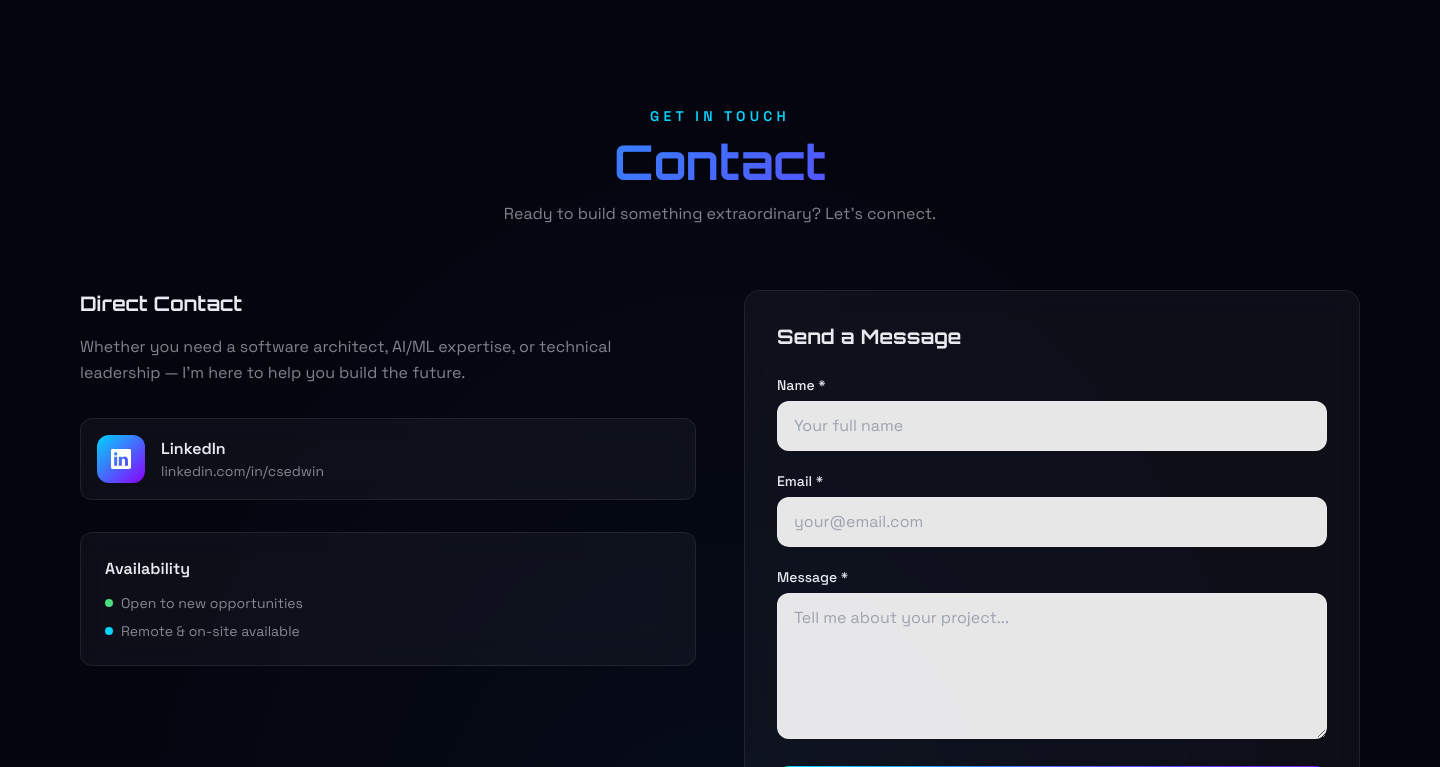
Test case: Contact › shows invalid email error
Type "Test User" into the field labelled "Name *". click: (1052, 426)
box: [777, 401, 1327, 451]
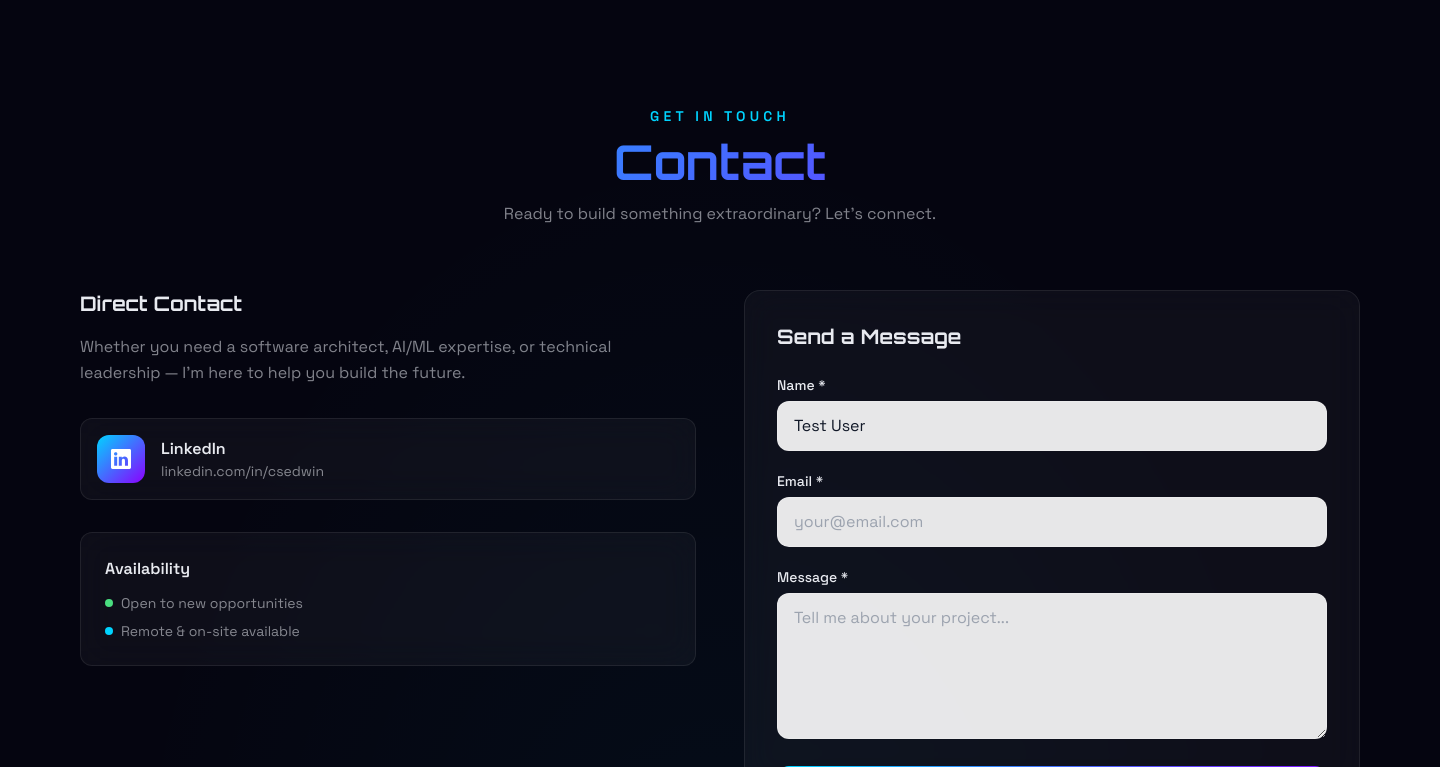
Type "not-an-email" into the field labelled "Email *". click: (1052, 522)
box: [777, 497, 1327, 547]
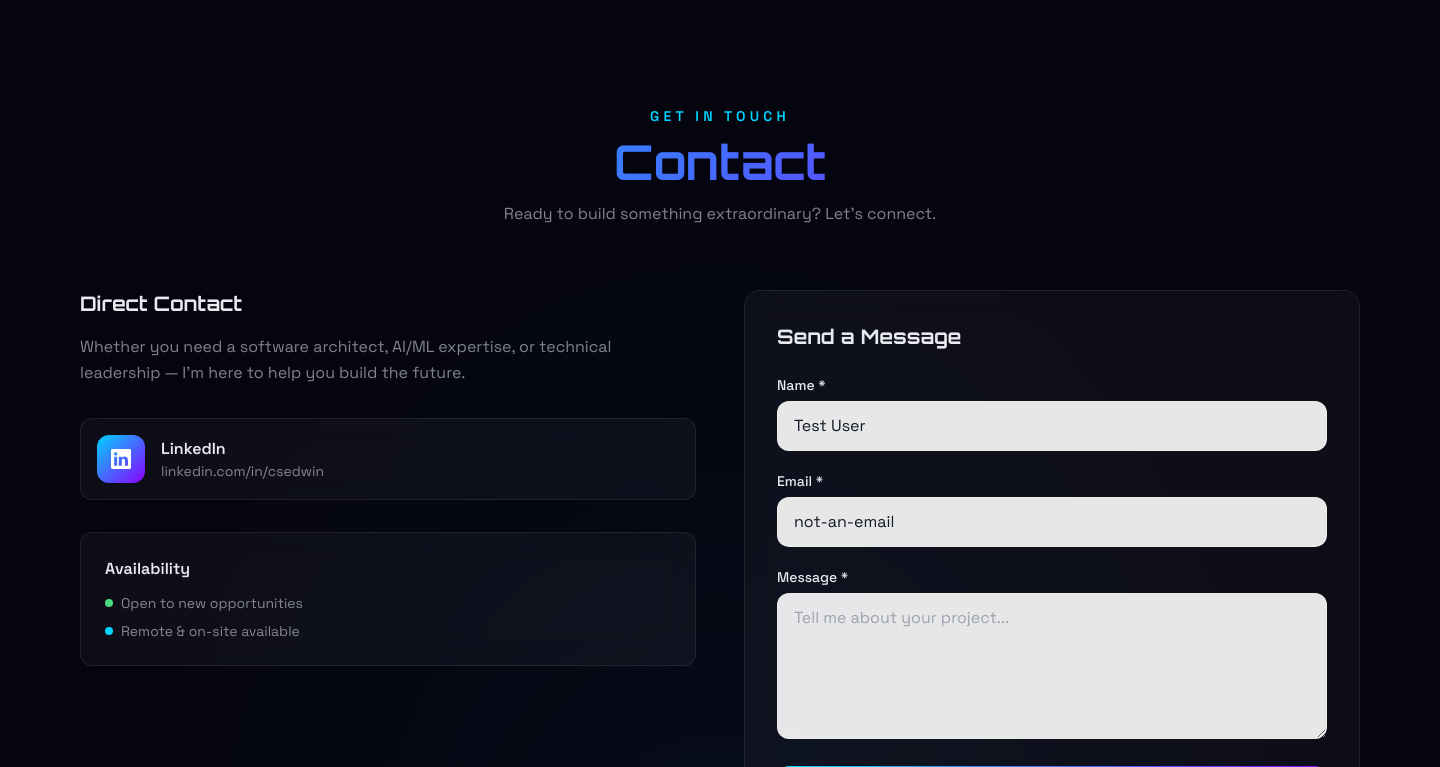
Type "This is a long enough message" into the text box labelled "Message *". click: (1052, 666)
box: [777, 593, 1327, 739]
(page scrolled)
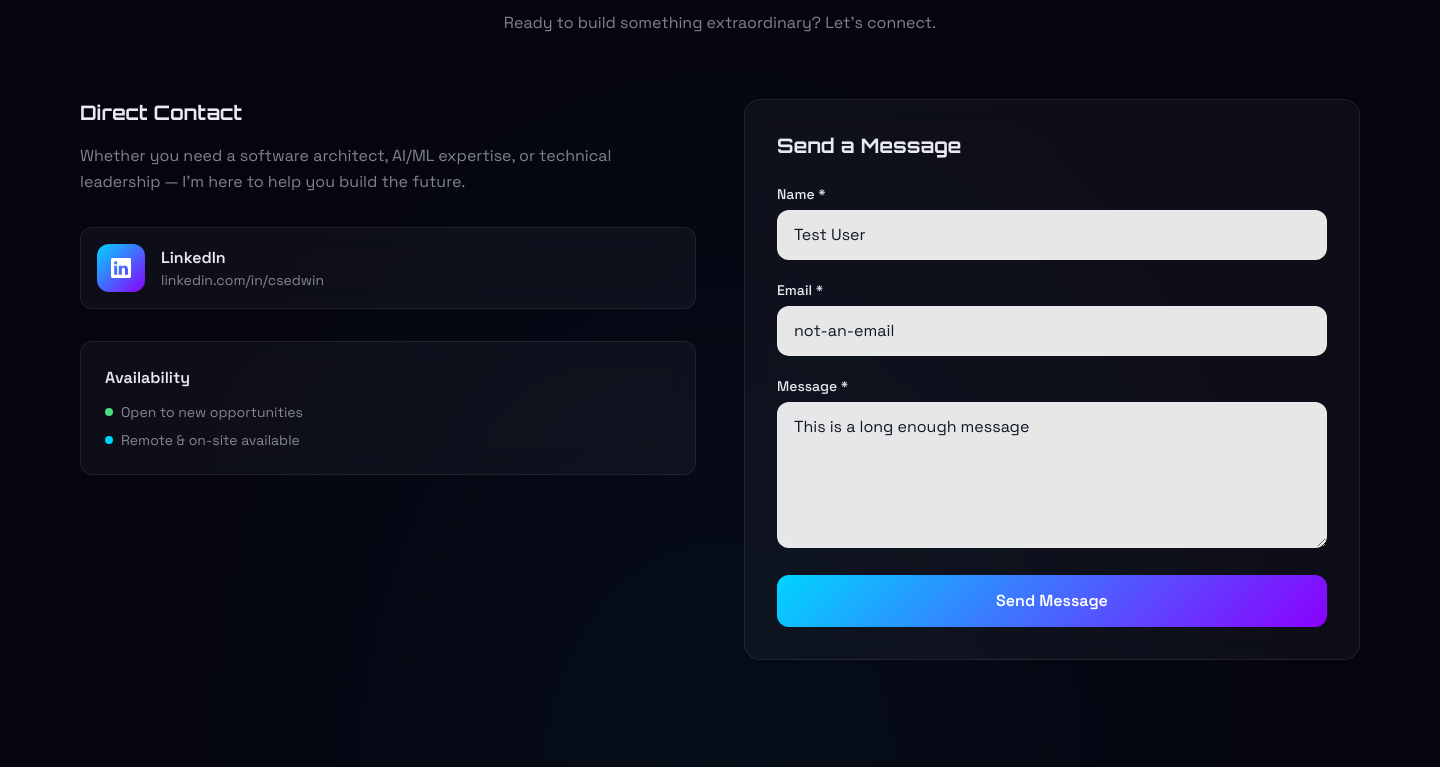
Click the button "Send Message". click: (1052, 601)
box: [777, 575, 1327, 627]
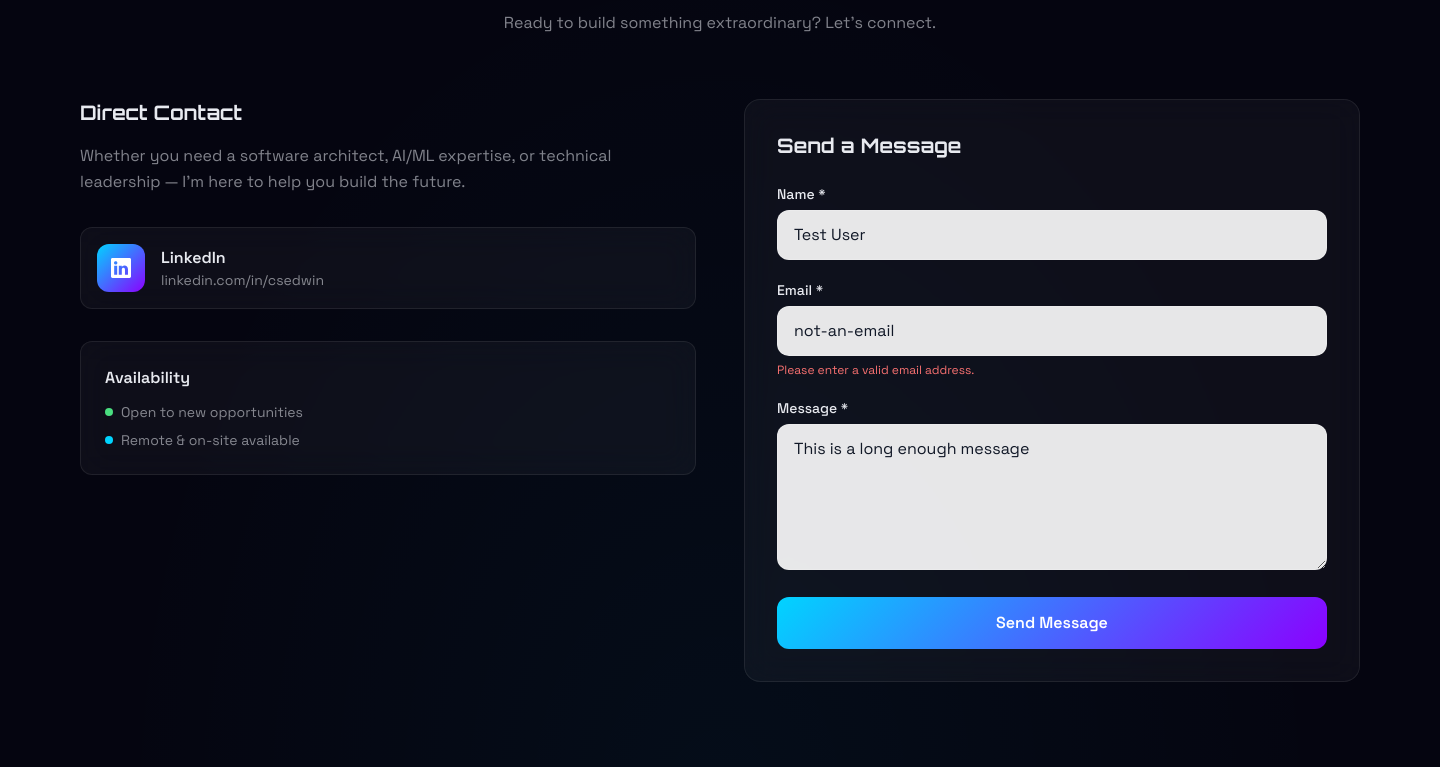
Result: the text "Please enter a valid email address." is shown at [777, 362, 974, 378]
